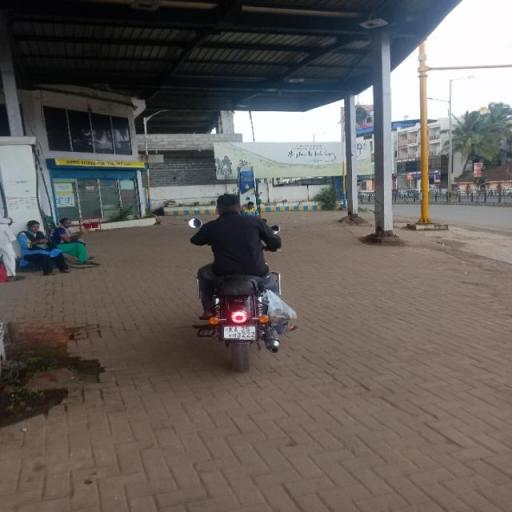bike: (181, 186, 297, 372)
numberplate: (223, 326, 256, 339)
withouthelmet: (217, 194, 243, 215)
